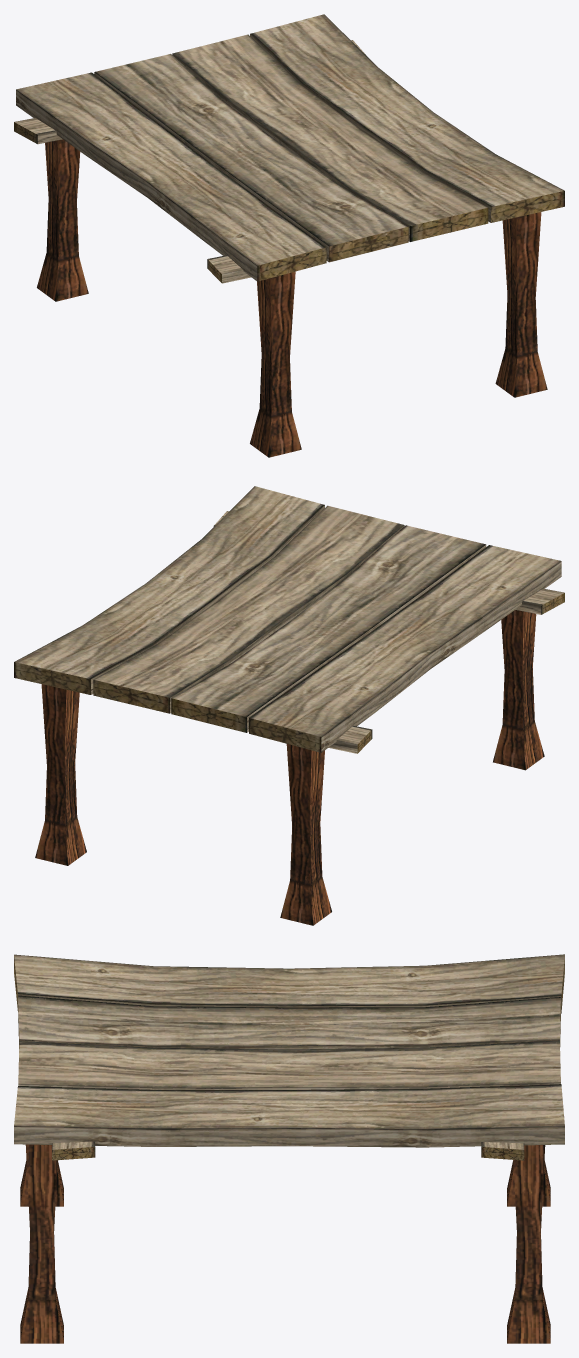
Rendered from INST_LT_SM_TABLE.fbx.
3 renders of one model, top to bottom at view 1: azimuth 30°, elevation 25°; view 2: azimuth 150°, elevation 25°; view 3: azimuth 270°, elevation 25°, orthographic. The views are drawn at different scales.
Visible parts, largest first — view 1: INST_LT_SM_TABLE; view 2: INST_LT_SM_TABLE; view 3: INST_LT_SM_TABLE.
Part boxes in pixels (x1=…): INST_LT_SM_TABLE: x1=14, y1=14, x2=564, y2=457; INST_LT_SM_TABLE: x1=14, y1=486, x2=564, y2=925; INST_LT_SM_TABLE: x1=14, y1=954, x2=564, y2=1343.
Bounding box in the file's own units: 14826 × 8272 × 18308.
3 materials, 3 textured.
